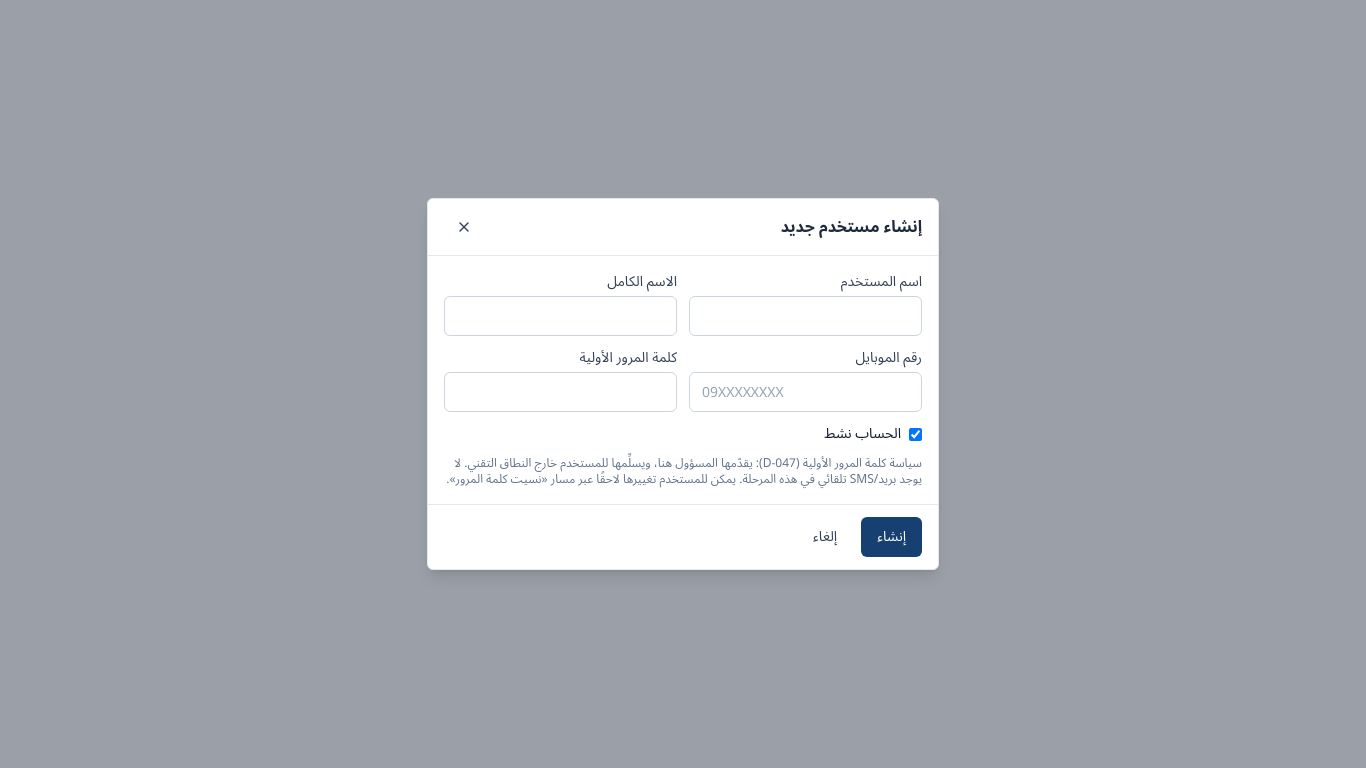
Test: CreateUserModal › rejects forbidden seed password "ChangeMe!2026"
This screenshot has width=1366, height=768.
Type "abc" into the field labelled "اسم المستخدم".
click(806, 316); type("abc")  # box [689,296,922,336]
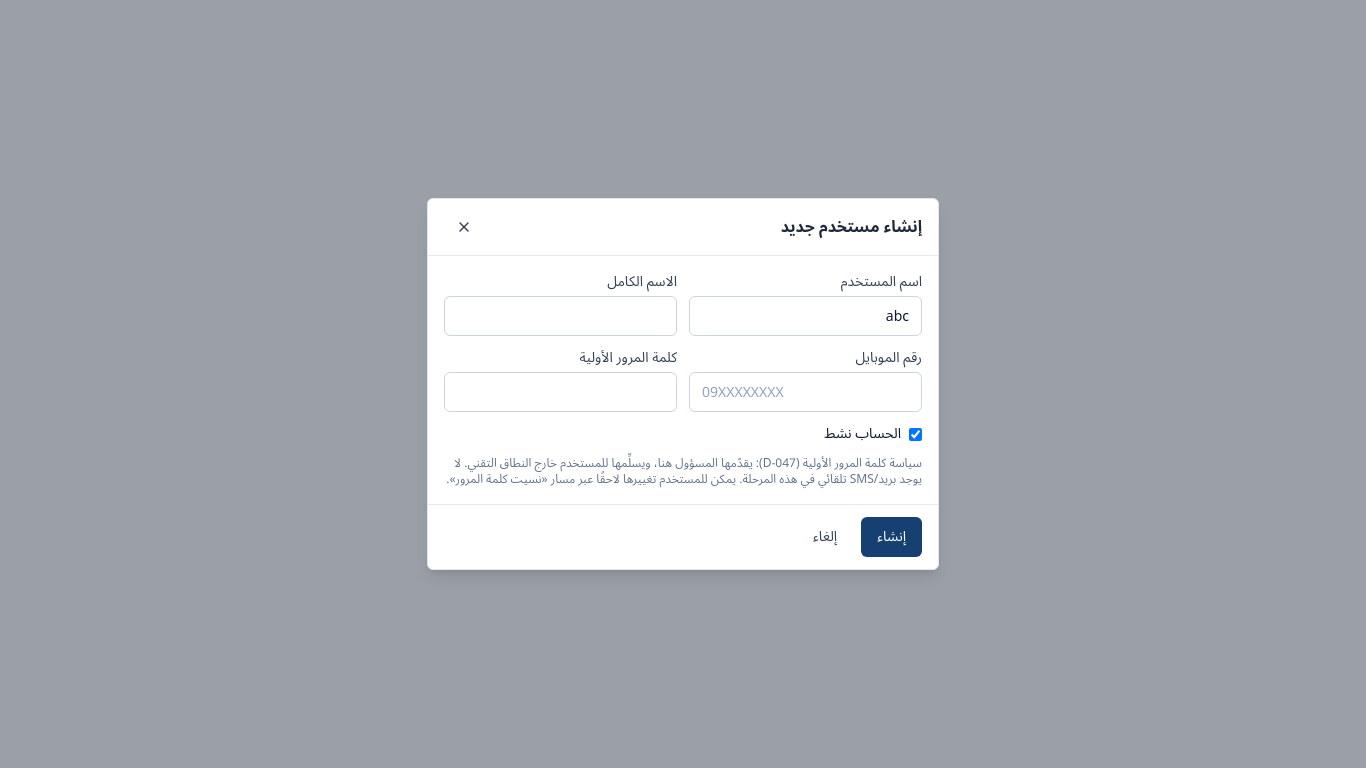
Type "فلان" into the field labelled "الاسم الكامل".
click(560, 316); type("فلان")  # box [444,296,677,336]
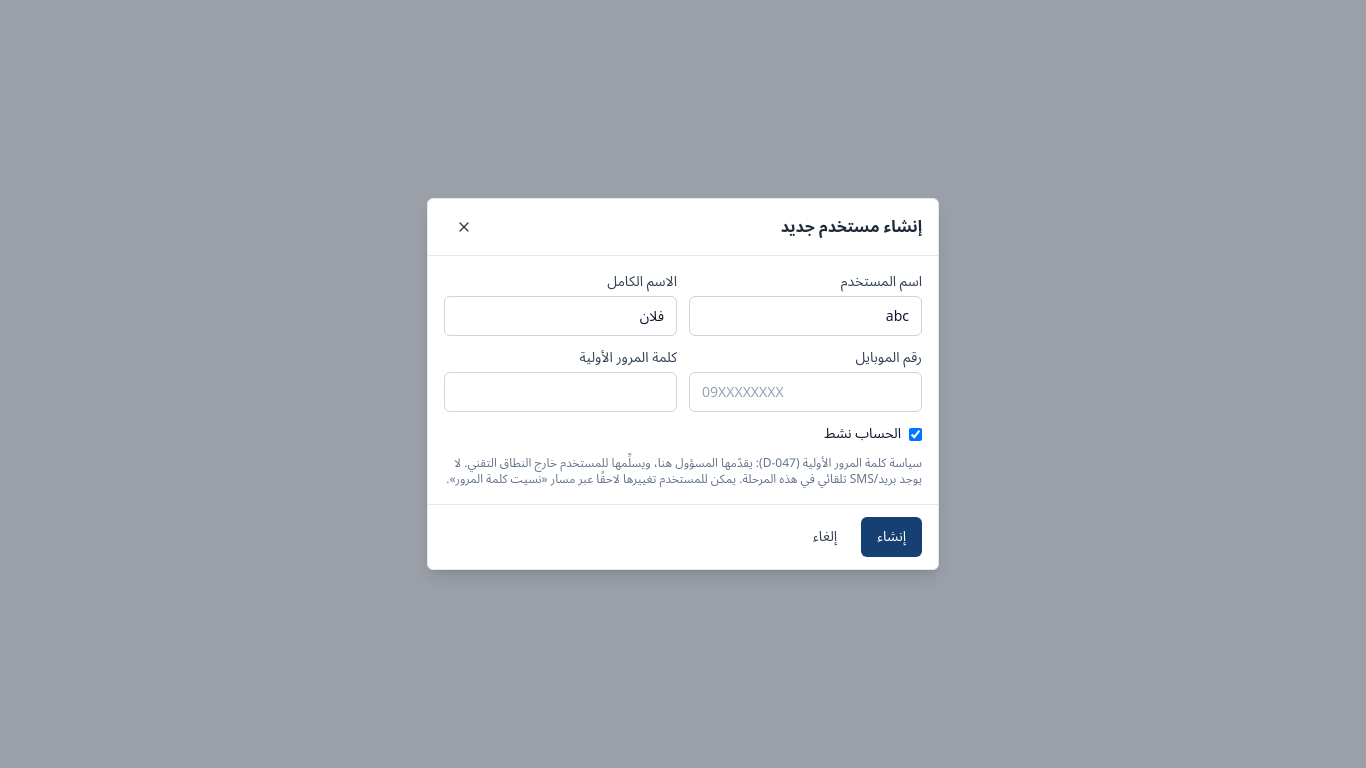
Type "0912345678" into the field labelled "رقم الموبايل".
click(806, 392); type("0912345678")  # box [689,372,922,412]
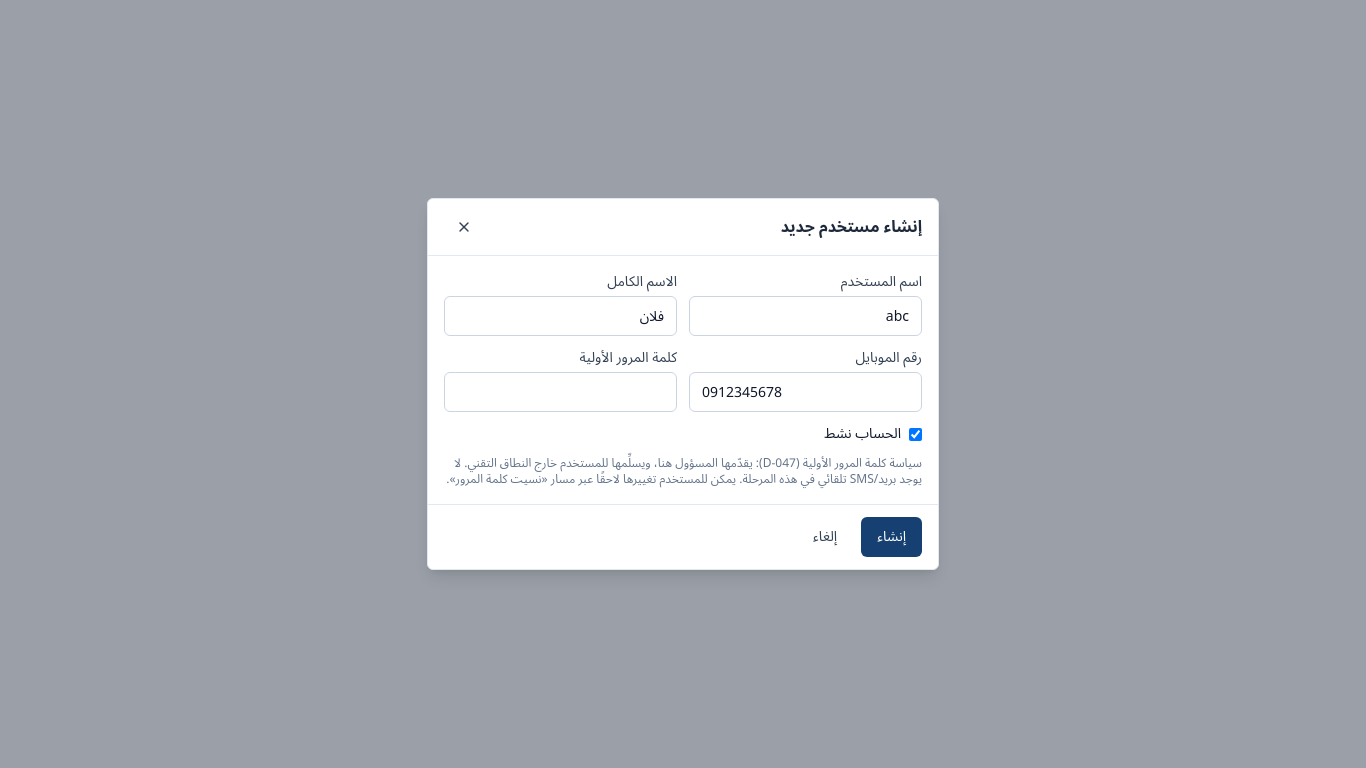
Type "ChangeMe!2026" into the password field labelled "كلمة المرور الأولية".
click(560, 392); type("ChangeMe!2026")  # box [444,372,677,412]
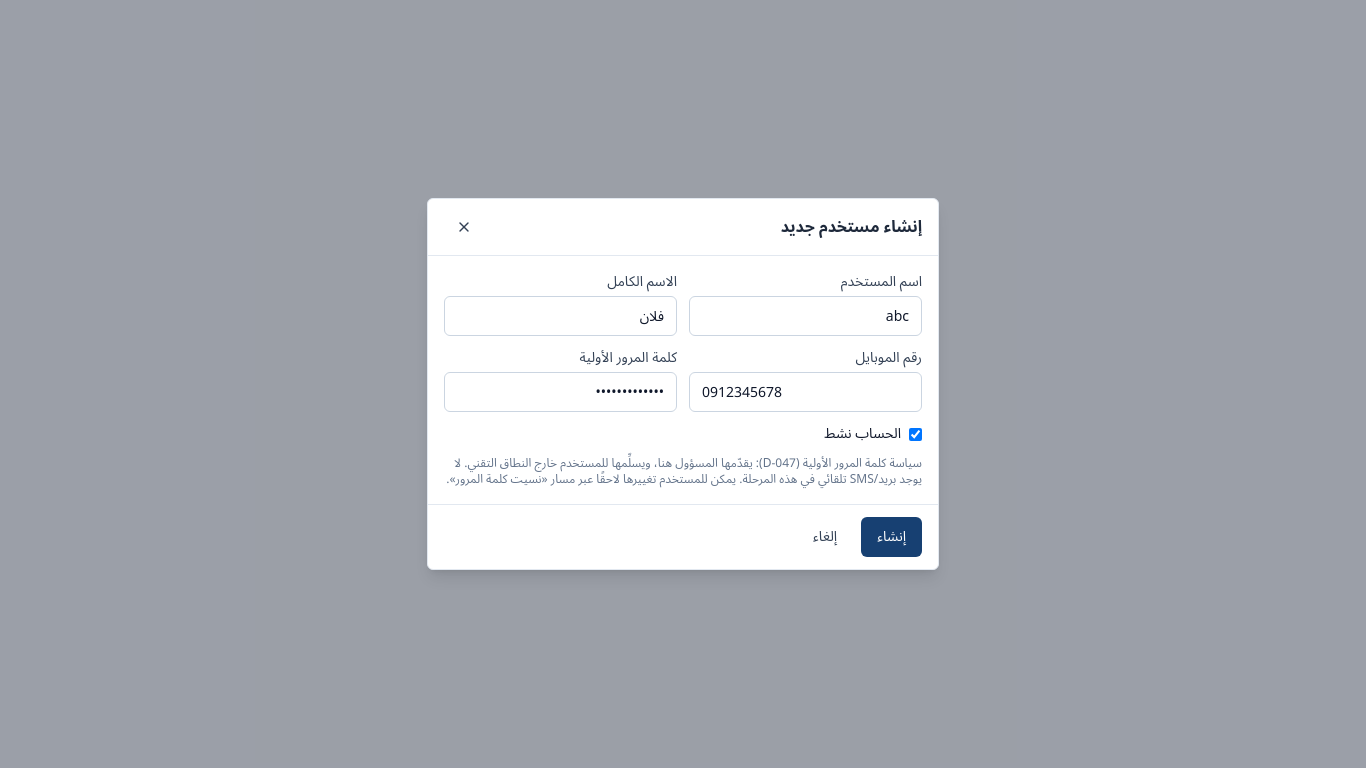
Submit the form with test id "admin-user-form", box [444,272,922,488]
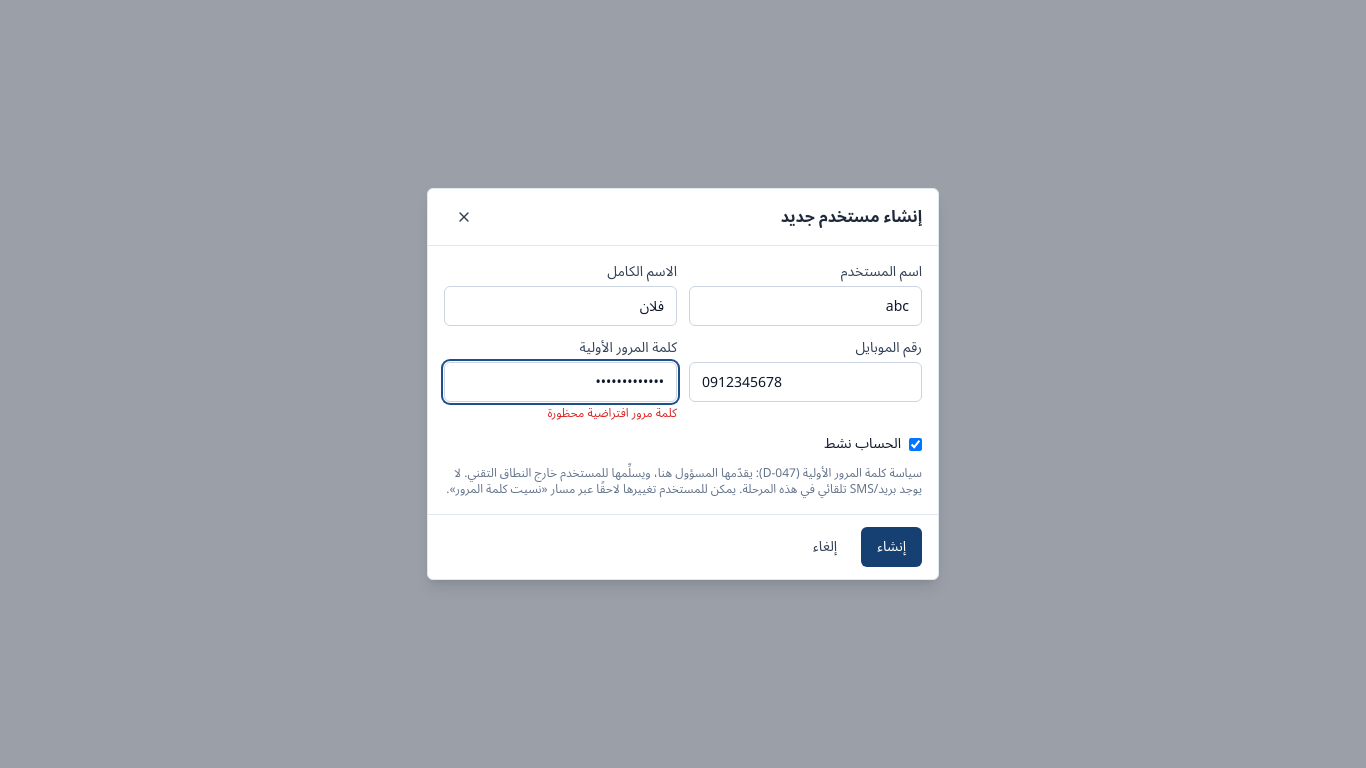
Expected: the text "كلمة مرور افتراضية محظورة" is shown, [547,401,677,426]
